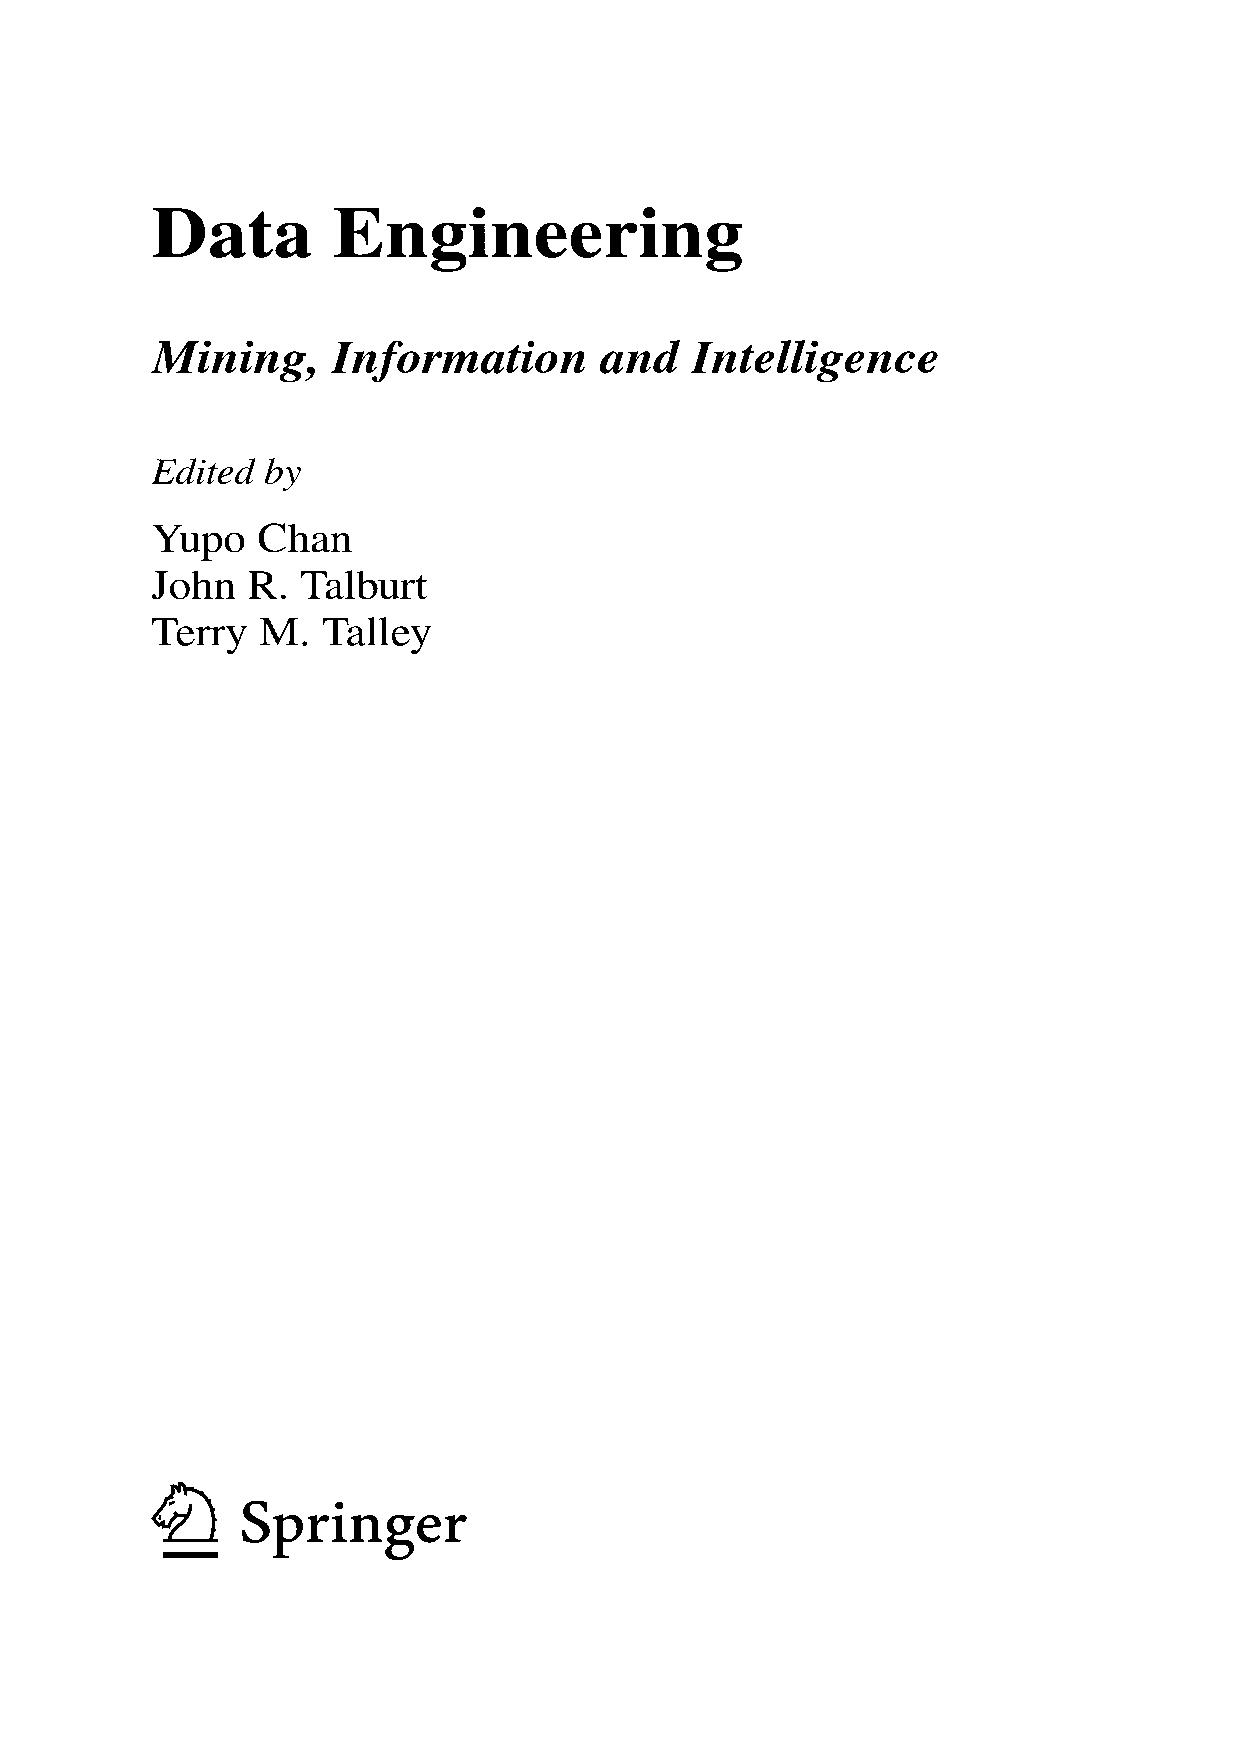author: (148, 452, 432, 658)
title: (148, 201, 939, 385)
